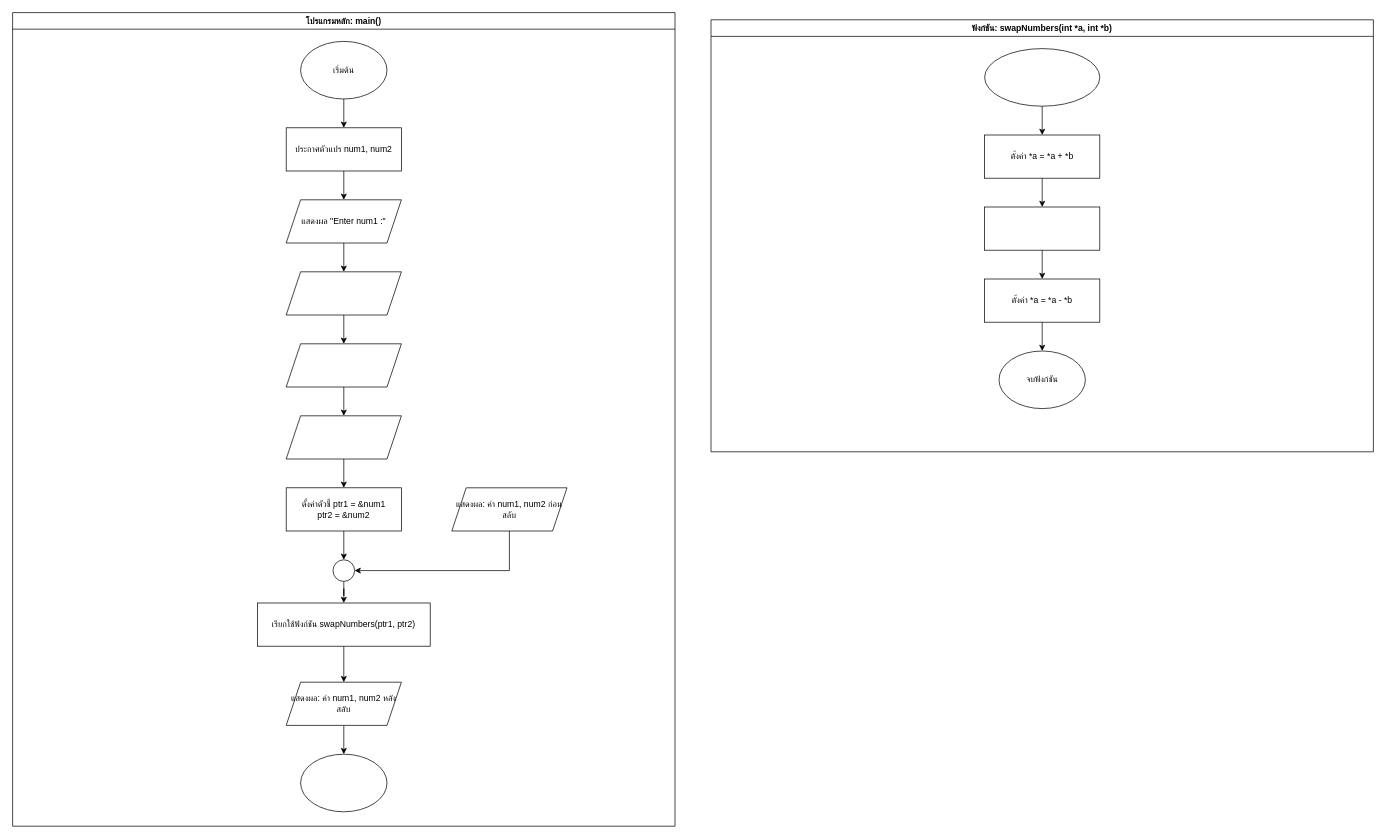
Some shapes in this 1386 by 839 pixel diagram are drawn without their labels. Each missing label, with the centre of its shape:
ตั้งค่า *b = *a - *b: [1042,228]
รับค่า num1: [343,293]
รับค่า num2: [343,437]
สิ้นสุด: [343,782]
เริ่มต้นฟังก์ชัน (รับค่าตัวชี้ a, b): [1042,77]
แสดงผล "Enter num2 :": [343,365]
